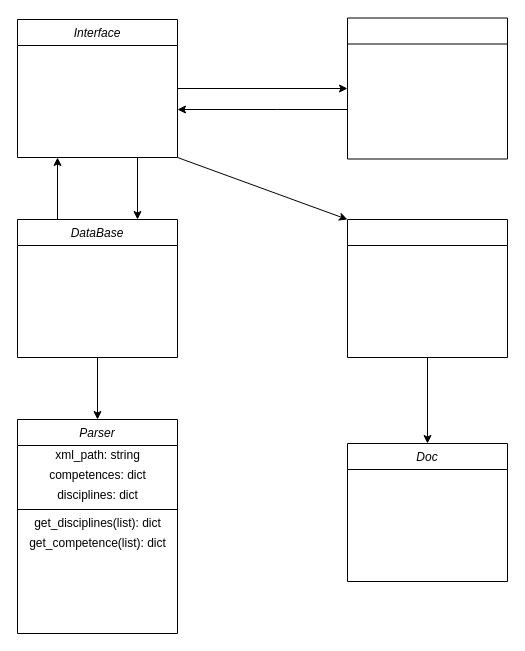
The diagram is 525 pixels wide and 651 high, and some of its shapes have lost their labels. The shapes that lost their labels are listed below. From the top down, each one's box as (x1, y1, x2, y2) in pixels, then its label:
(346, 17, 508, 159): Validator
(346, 218, 508, 358): Data
